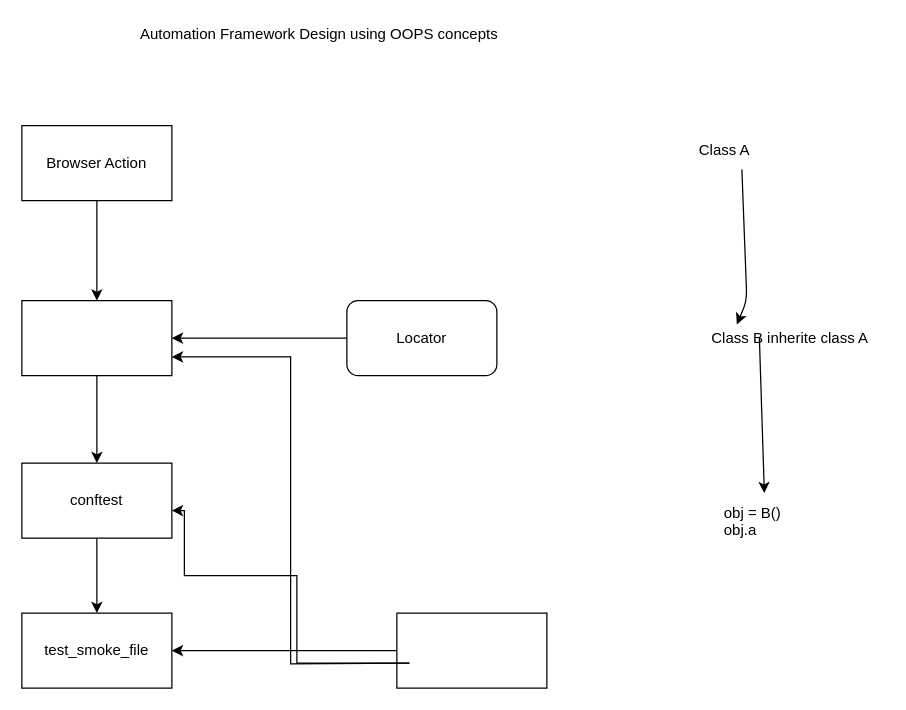
The diagram is 906 pixels wide and 710 high, and some of its shapes have lost their labels. The shapes that lost their labels are listed below. From the top down, each one's centre as x and y in pixels, then its label:
(x=96, y=337): Function Logic
(x=471, y=650): test_data
